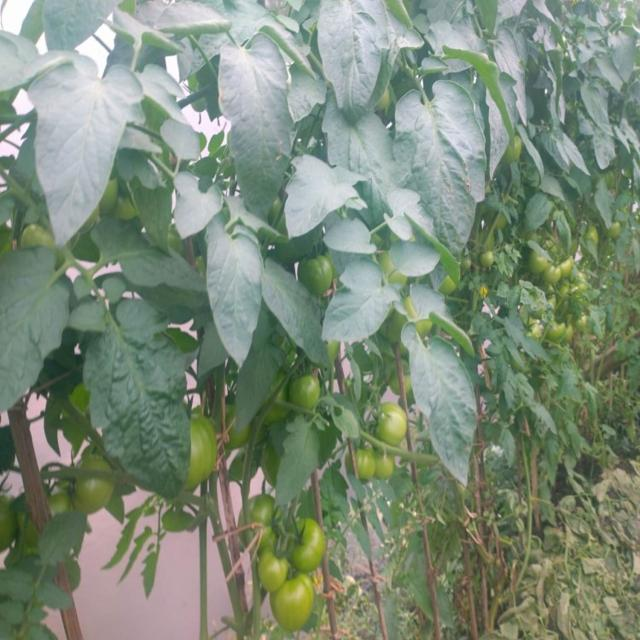tomato: (72, 452, 123, 514), (182, 406, 216, 497), (1, 491, 57, 542), (287, 514, 331, 569), (278, 573, 317, 633), (369, 400, 410, 453), (252, 545, 295, 593), (24, 222, 70, 262), (297, 262, 343, 300), (240, 492, 272, 545), (294, 374, 331, 413), (372, 443, 398, 486), (350, 453, 374, 485), (540, 258, 561, 292), (531, 321, 552, 350), (566, 317, 592, 340), (550, 319, 570, 345), (532, 252, 549, 276), (559, 256, 575, 280), (483, 247, 499, 268)
